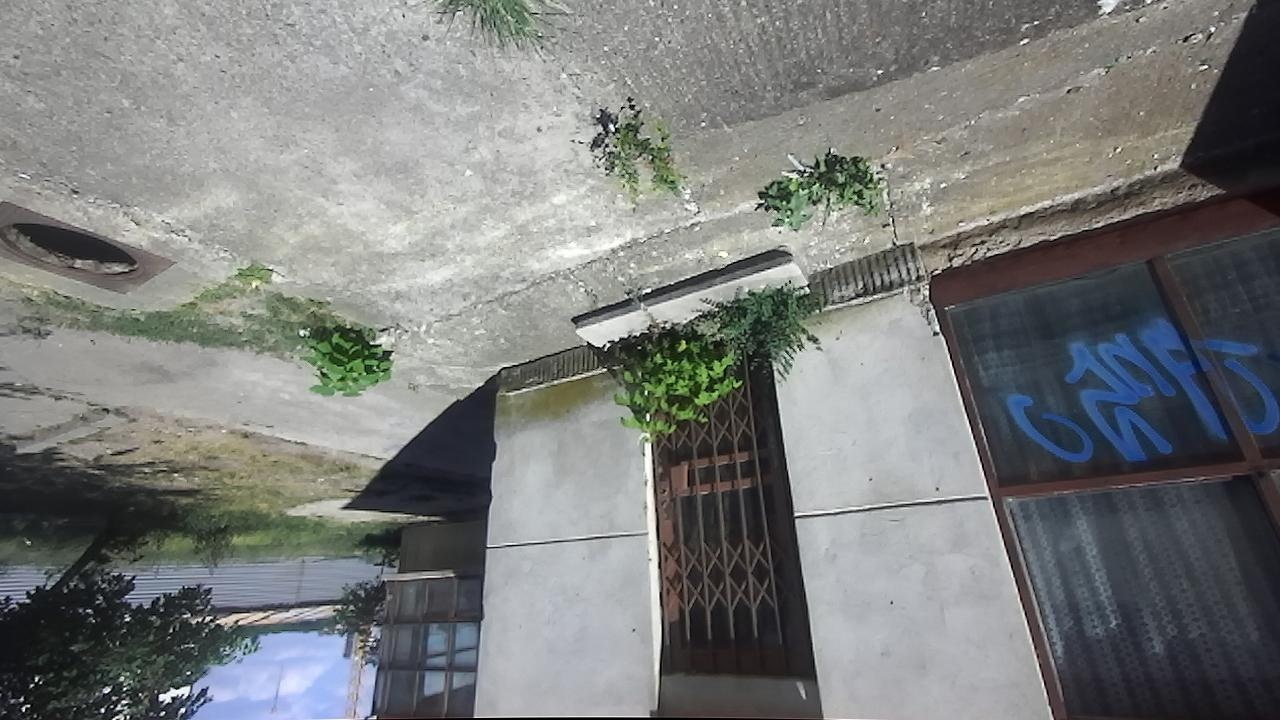drain: (1, 217, 153, 285)
